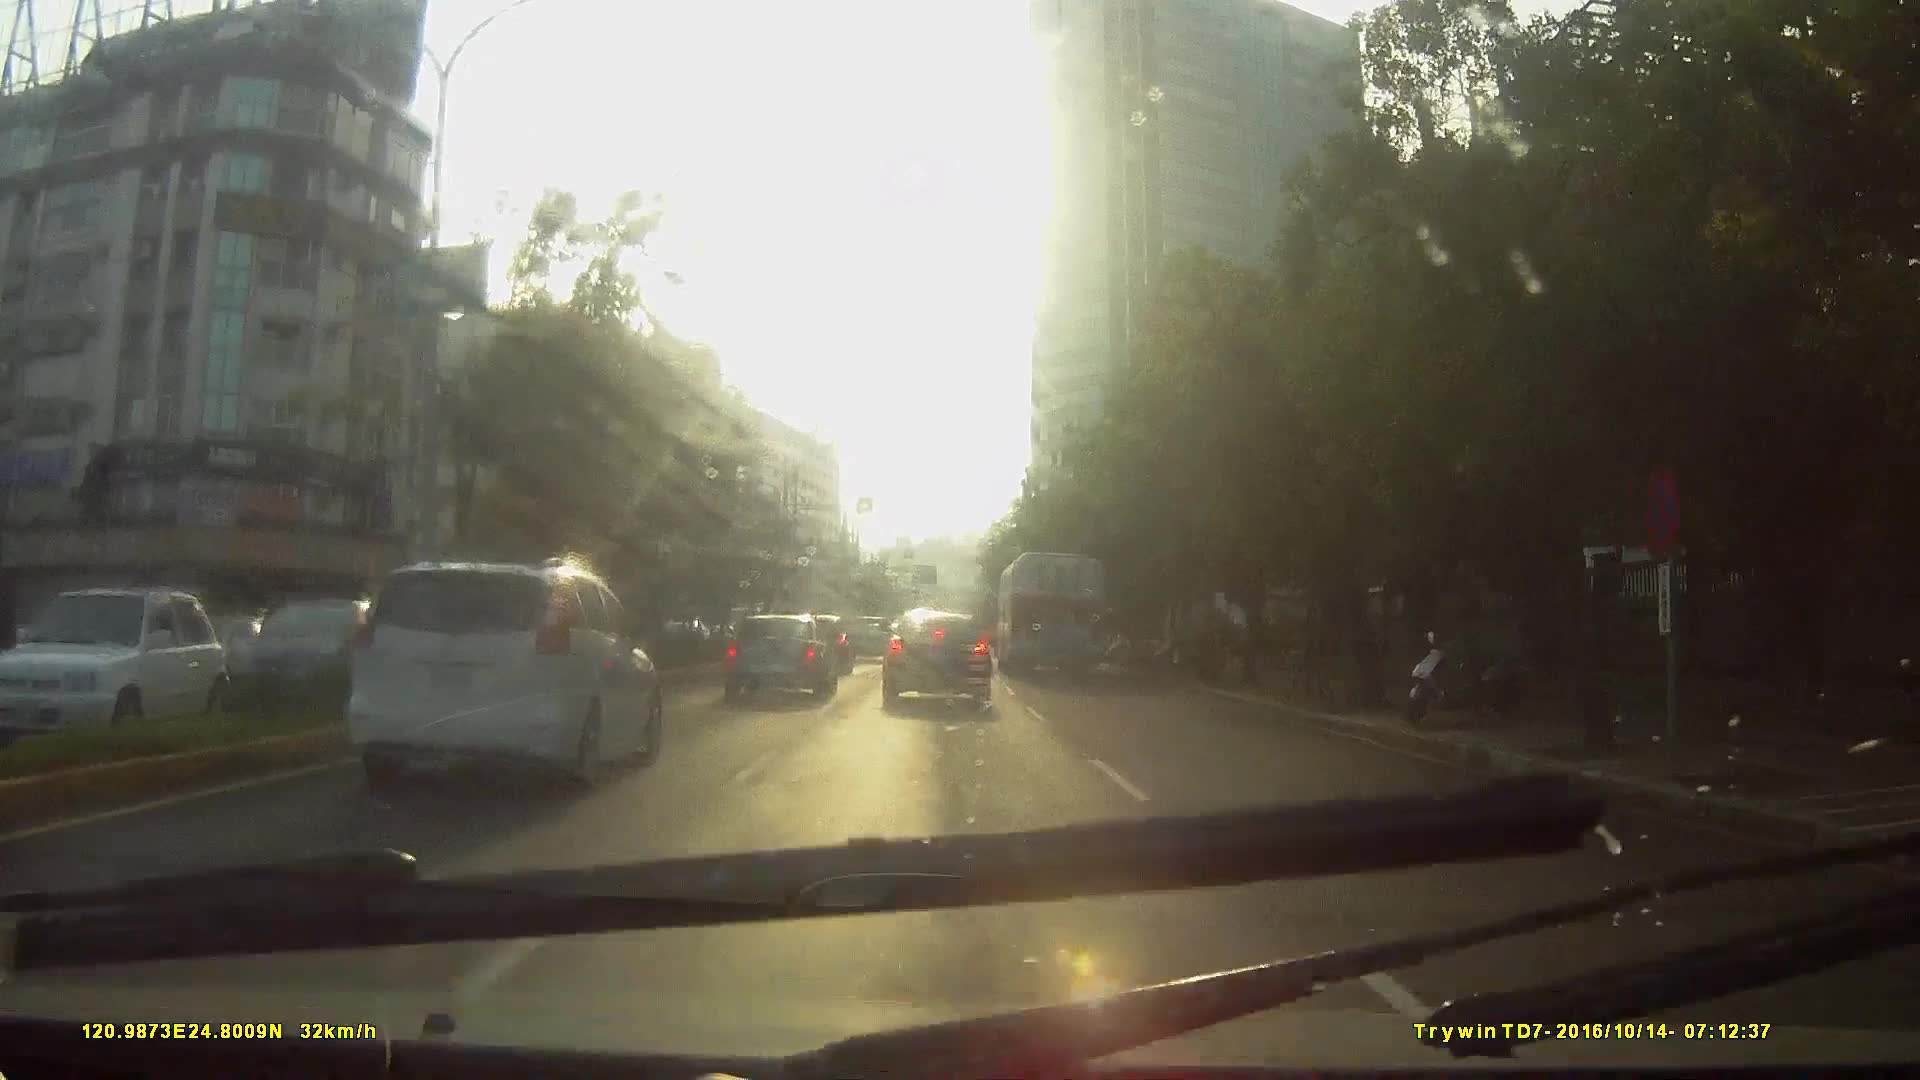vehicle: (251, 556, 684, 868), (338, 554, 662, 793), (7, 582, 253, 765), (225, 600, 398, 711), (998, 549, 1108, 680), (878, 607, 993, 709), (719, 611, 837, 702), (847, 615, 891, 663)
